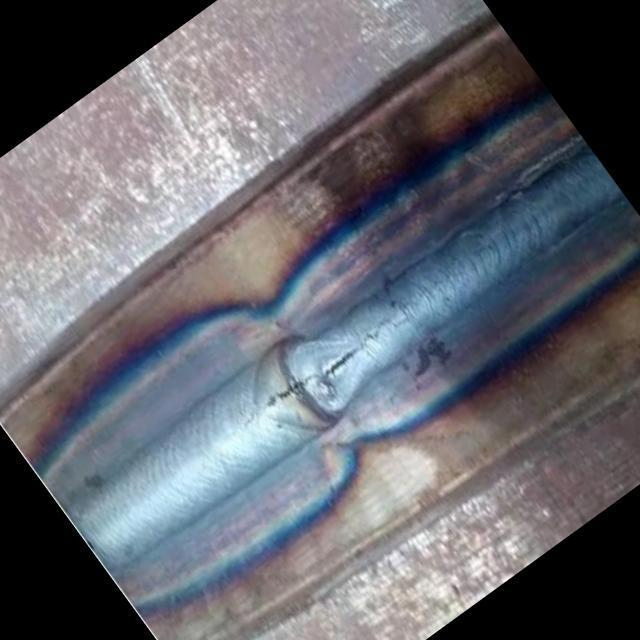defect: (257, 303, 412, 413)
